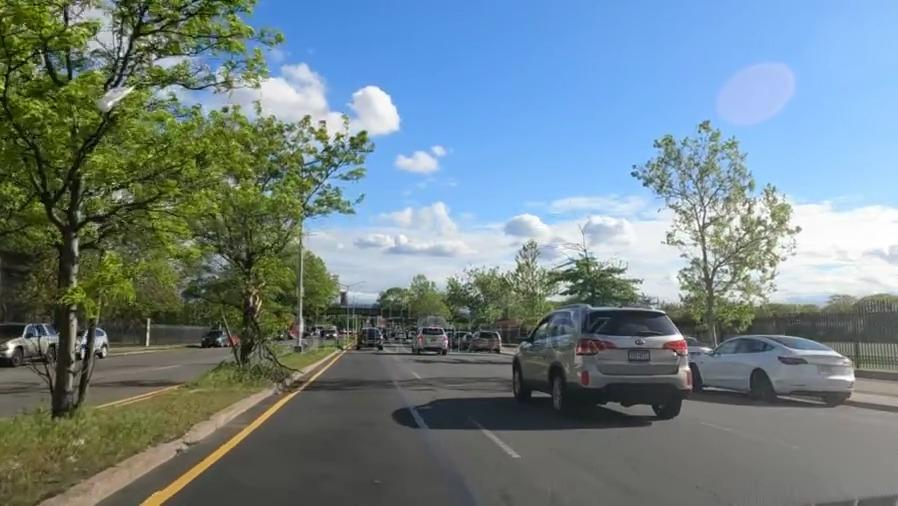car: (513, 307, 692, 421), (699, 336, 855, 409), (0, 321, 54, 362), (77, 325, 111, 362), (407, 328, 446, 353), (354, 328, 384, 351), (471, 331, 502, 349), (201, 329, 225, 348)
